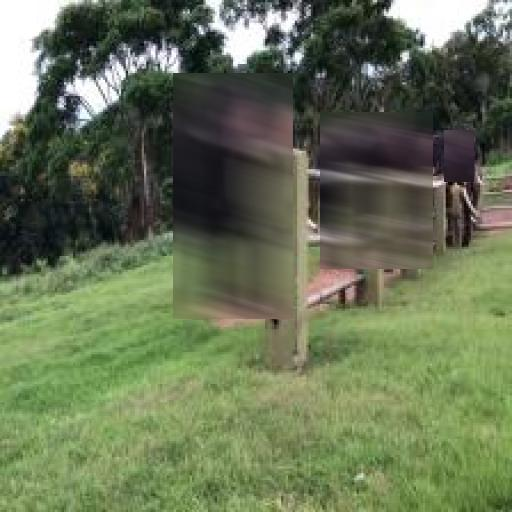Elephant: (174, 73, 294, 319), (320, 112, 433, 269), (444, 130, 474, 182)
